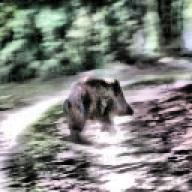boar: (62, 74, 132, 144)
